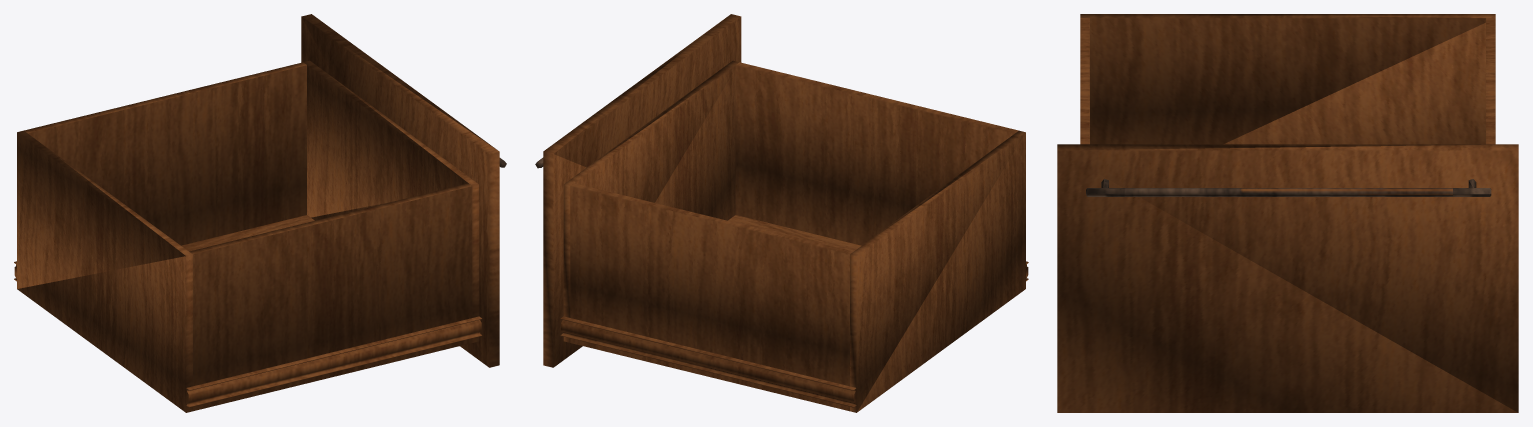
3 views of the same model, side by side, from view 1: azimuth 30°, elevation 25°; view 2: azimuth 150°, elevation 25°; view 3: azimuth 270°, elevation 25° (orthographic). The views are drawn at different scales.
Parts seen in each view (by area): view 1: visuals.001; view 2: visuals.001; view 3: visuals.001.
Boxes of the visible parts, box(x1,y1,x2,y2) form: visuals.001: box(14, 14, 506, 412); visuals.001: box(535, 14, 1028, 412); visuals.001: box(1057, 14, 1518, 412).
Size of the model in its own units: 0.4261 by 0.269 by 0.4283.
1 material, 1 textured.
